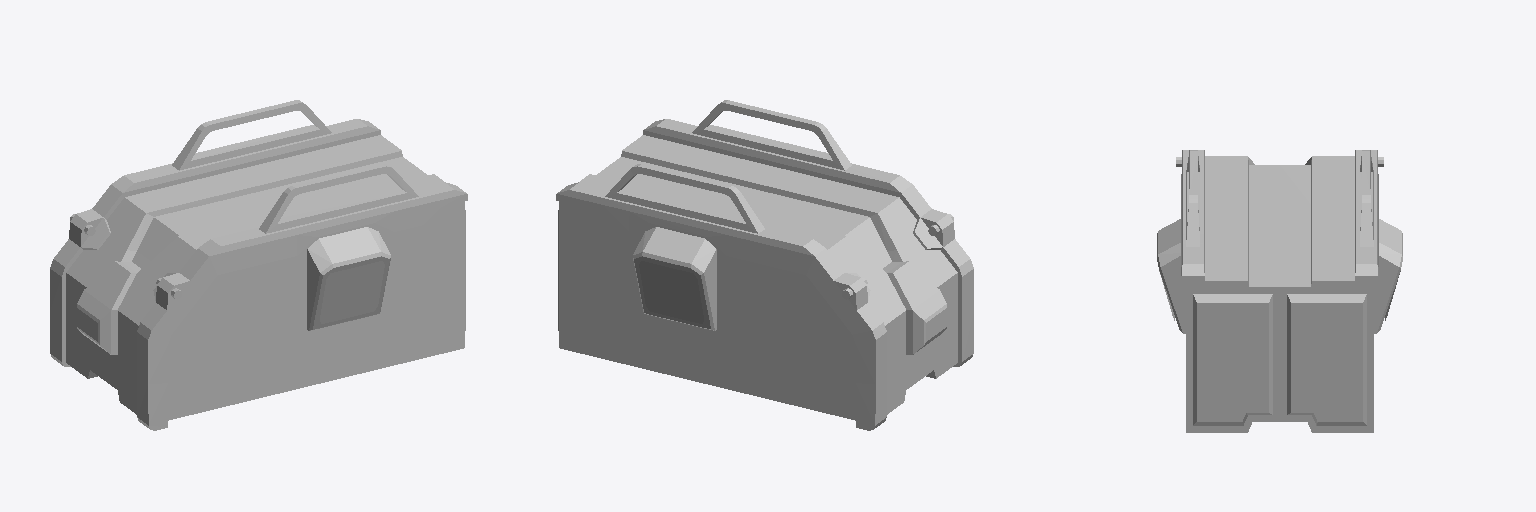
Rendered from Scifi_Crate02.obj.
3 views of the same model, side by side, from view 1: azimuth 30°, elevation 25°; view 2: azimuth 150°, elevation 25°; view 3: azimuth 270°, elevation 25° (orthographic).
Parts seen in each view (by area): view 1: SciFi_Crate01_B_Mesh.040; view 2: SciFi_Crate01_B_Mesh.040; view 3: SciFi_Crate01_B_Mesh.040.
Boxes of the visible parts, box(x1,y1,x2,y2) form: SciFi_Crate01_B_Mesh.040: box(50, 100, 467, 430); SciFi_Crate01_B_Mesh.040: box(556, 100, 973, 430); SciFi_Crate01_B_Mesh.040: box(1157, 150, 1402, 432).
Bounding box in the file's own units: 3.47 × 2.01 × 2.2.